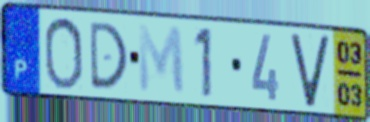1: (192, 25, 215, 102)
4: (250, 33, 281, 103)
D: (87, 20, 130, 92)
M: (136, 22, 187, 98)
O: (42, 15, 85, 92)
V: (288, 32, 332, 109)
